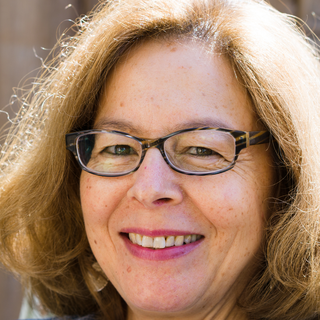eye: (179, 143, 224, 166), (100, 141, 140, 164)
